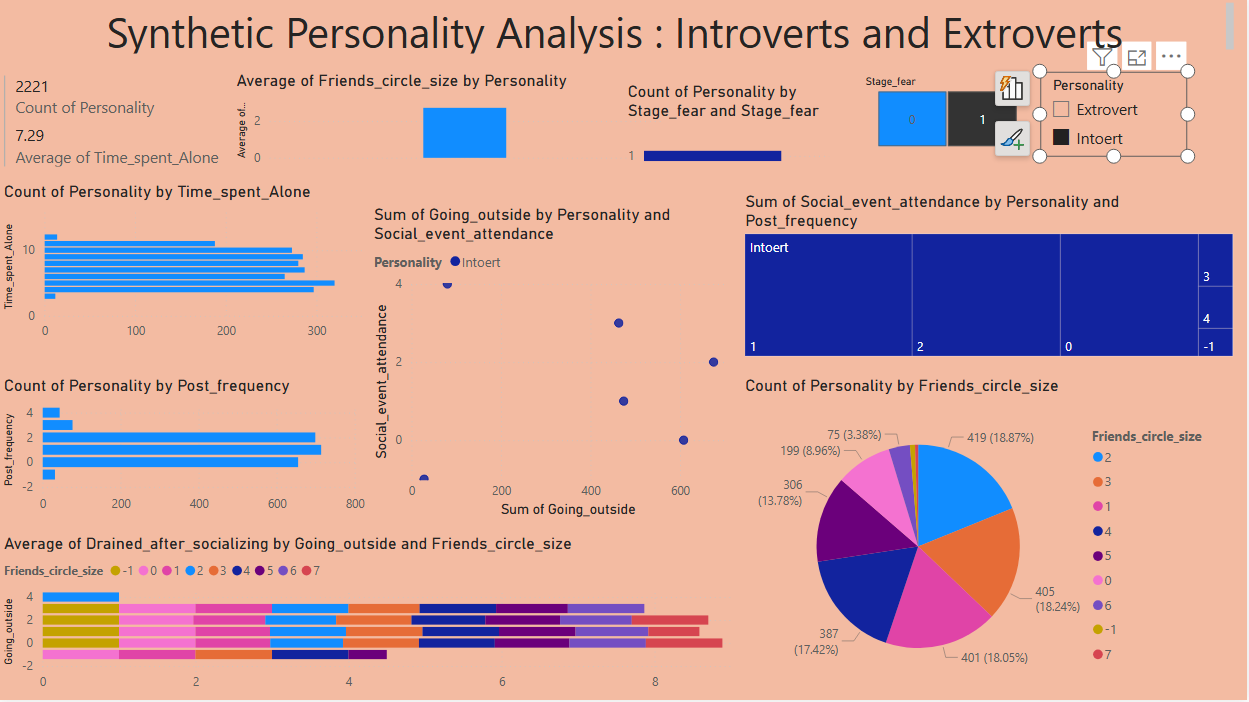

The page's visual inventory and layout, read from the dashboard file:
{"tool":"powerbi","page":{"name":"Page 1","canvas":[1280,720],"ordinal":0},"visuals":[{"type":"barChart","fields":{"Category":["Extrovert vs  Introvert Persona.Going_outside"],"Series":["Extrovert vs  Introvert Persona.Friends_circle_size"],"Y":["Avg(Extrovert vs  Introvert Persona.Drained_after_socializing)"]},"box":[0,548.9,760.1,171.3],"z":0},{"type":"clusteredBarChart","fields":{"Category":["Extrovert vs  Introvert Persona.Time_spent_Alone"],"Y":["CountNonNull(Extrovert vs  Introvert Persona.Personality)"]},"box":[0,188.2,387.3,171.3],"z":1000},{"type":"pieChart","fields":{"Category":["Extrovert vs  Introvert Persona.Friends_circle_size"],"Y":["CountNonNull(Extrovert vs  Introvert Persona.Personality)"]},"box":[760.1,387.3,493.4,331.8],"z":2000},{"type":"treemap","fields":{"Details":["Extrovert vs  Introvert Persona.Post_frequency"],"Values":["Sum(Extrovert vs  Introvert Persona.Social_event_attendance)"],"Group":["Extrovert vs  Introvert Persona.Personality"]},"box":[760.1,199.1,510.3,173.7],"z":3000},{"type":"clusteredBarChart","fields":{"Category":["Extrovert vs  Introvert Persona.Post_frequency"],"Y":["CountNonNull(Extrovert vs  Introvert Persona.Personality)"]},"box":[0,387.3,380,149.6],"z":4000},{"type":"clusteredColumnChart","fields":{"Y":["Avg(Extrovert vs  Introvert Persona.Friends_circle_size)"],"Category":["Extrovert vs  Introvert Persona.Personality"]},"box":[238.9,74.8,448.8,103.8],"z":5000},{"type":"barChart","fields":{"Y":["CountNonNull(Extrovert vs  Introvert Persona.Personality)"],"Category":["Extrovert vs  Introvert Persona.Stage_fear"],"Series":["Extrovert vs  Introvert Persona.Stage_fear"]},"box":[639.4,85.7,217.2,106.2],"z":6000},{"type":"scatterChart","fields":{"X":["Sum(Extrovert vs  Introvert Persona.Going_outside)"],"Y":["Extrovert vs  Introvert Persona.Social_event_attendance"],"Series":["Extrovert vs  Introvert Persona.Personality"]},"box":[380,211.1,380,325.7],"z":7000},{"type":"multiRowCard","fields":{"Values":["CountNonNull(Extrovert vs  Introvert Persona.Personality)","Avg(Extrovert vs  Introvert Persona.Time_spent_Alone)"]},"box":[0,74.8,238.9,113.4],"z":8000},{"type":"slicer","fields":{"Values":["Extrovert vs  Introvert Persona.Personality"]},"box":[1067.6,75,151.5,88],"z":9000},{"type":"slicer","fields":{"Values":["Extrovert vs  Introvert Persona.Stage_fear"]},"box":[875.9,74.8,191.8,84.5],"z":10000},{"type":"textbox","box":[0,0,1271.1,62],"z":11000}]}

Visuals, with their boxes in screenshot pixels (x1, y1, x2, y2), scaled from the page's 1280x720 canvas onto the 1249x702 screenshot:
barChart - Extrovert vs  Introvert Persona.Going_outside x Extrovert vs  Introvert Persona.Friends_circle_size: [0, 535, 742, 701]
clusteredBarChart - Extrovert vs  Introvert Persona.Time_spent_Alone x CountNonNull(Extrovert vs  Introvert Persona.Personality): [0, 183, 378, 351]
pieChart - Extrovert vs  Introvert Persona.Friends_circle_size x CountNonNull(Extrovert vs  Introvert Persona.Personality): [742, 378, 1223, 701]
treemap - Extrovert vs  Introvert Persona.Post_frequency x Sum(Extrovert vs  Introvert Persona.Social_event_attendance): [742, 194, 1240, 363]
clusteredBarChart - Extrovert vs  Introvert Persona.Post_frequency x CountNonNull(Extrovert vs  Introvert Persona.Personality): [0, 378, 371, 523]
clusteredColumnChart - Avg(Extrovert vs  Introvert Persona.Friends_circle_size) x Extrovert vs  Introvert Persona.Personality: [233, 73, 671, 174]
barChart - CountNonNull(Extrovert vs  Introvert Persona.Personality) x Extrovert vs  Introvert Persona.Stage_fear: [624, 84, 836, 187]
scatterChart - Sum(Extrovert vs  Introvert Persona.Going_outside) x Extrovert vs  Introvert Persona.Social_event_attendance: [371, 206, 742, 523]
multiRowCard - CountNonNull(Extrovert vs  Introvert Persona.Personality) x Avg(Extrovert vs  Introvert Persona.Time_spent_Alone): [0, 73, 233, 183]
slicer - Extrovert vs  Introvert Persona.Personality: [1042, 73, 1190, 159]
slicer - Extrovert vs  Introvert Persona.Stage_fear: [855, 73, 1042, 155]
textbox: [0, 0, 1240, 60]
